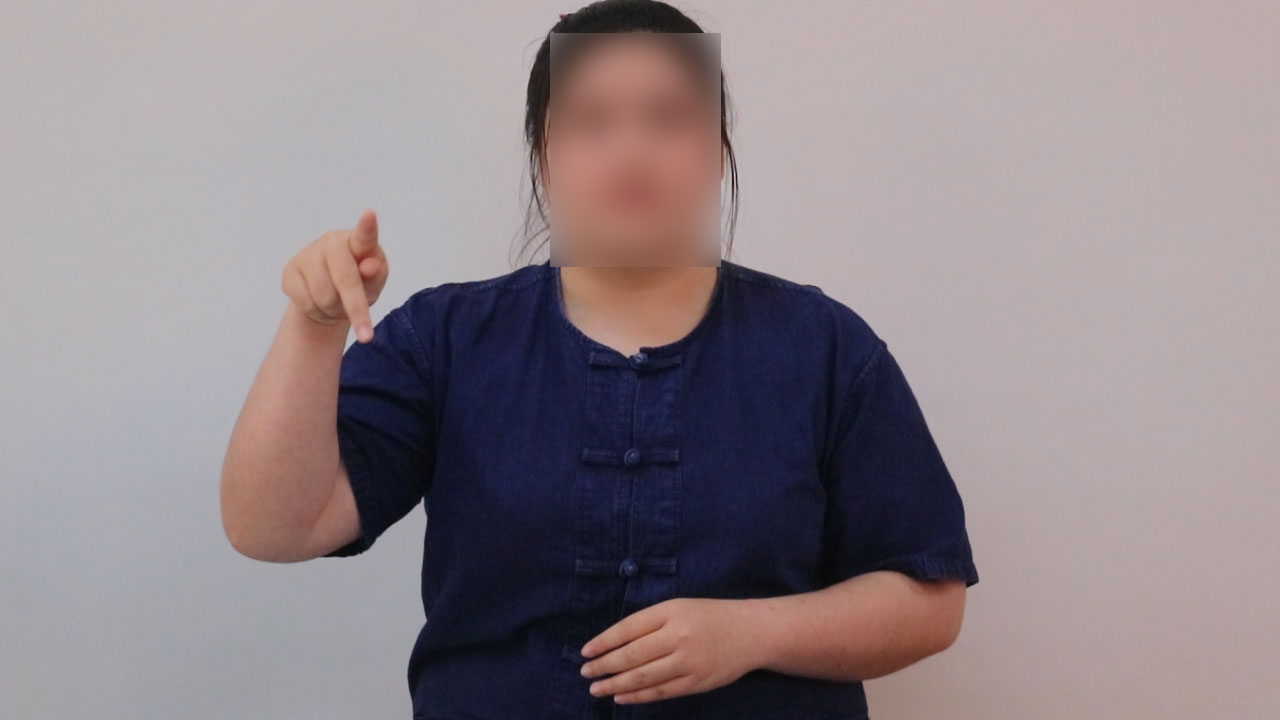por: (272, 200, 412, 351)
